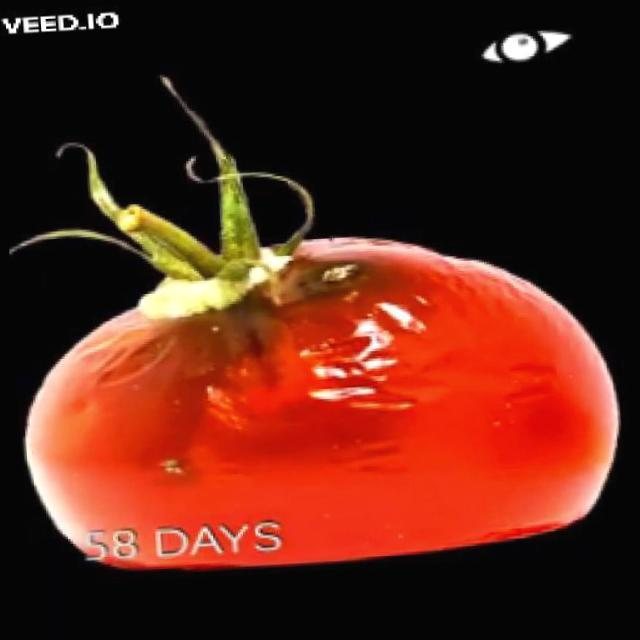tomato: (5, 153, 626, 584)
